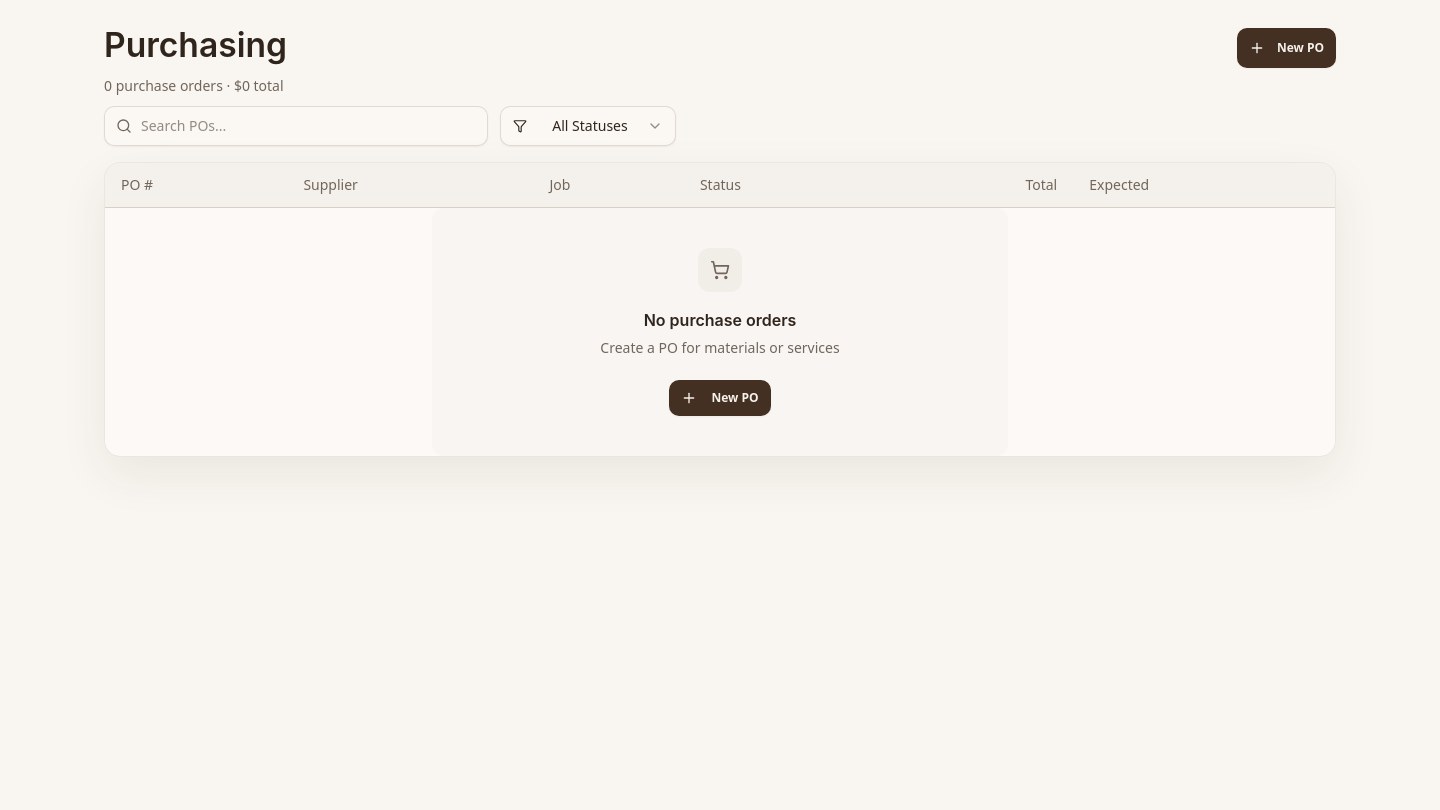
Test: Purchasing › opens the new purchase order dialog with an accessible description
Click the button "New PO" in the row of "Purchasing" at point(1286, 48), box [1237,28,1336,68]
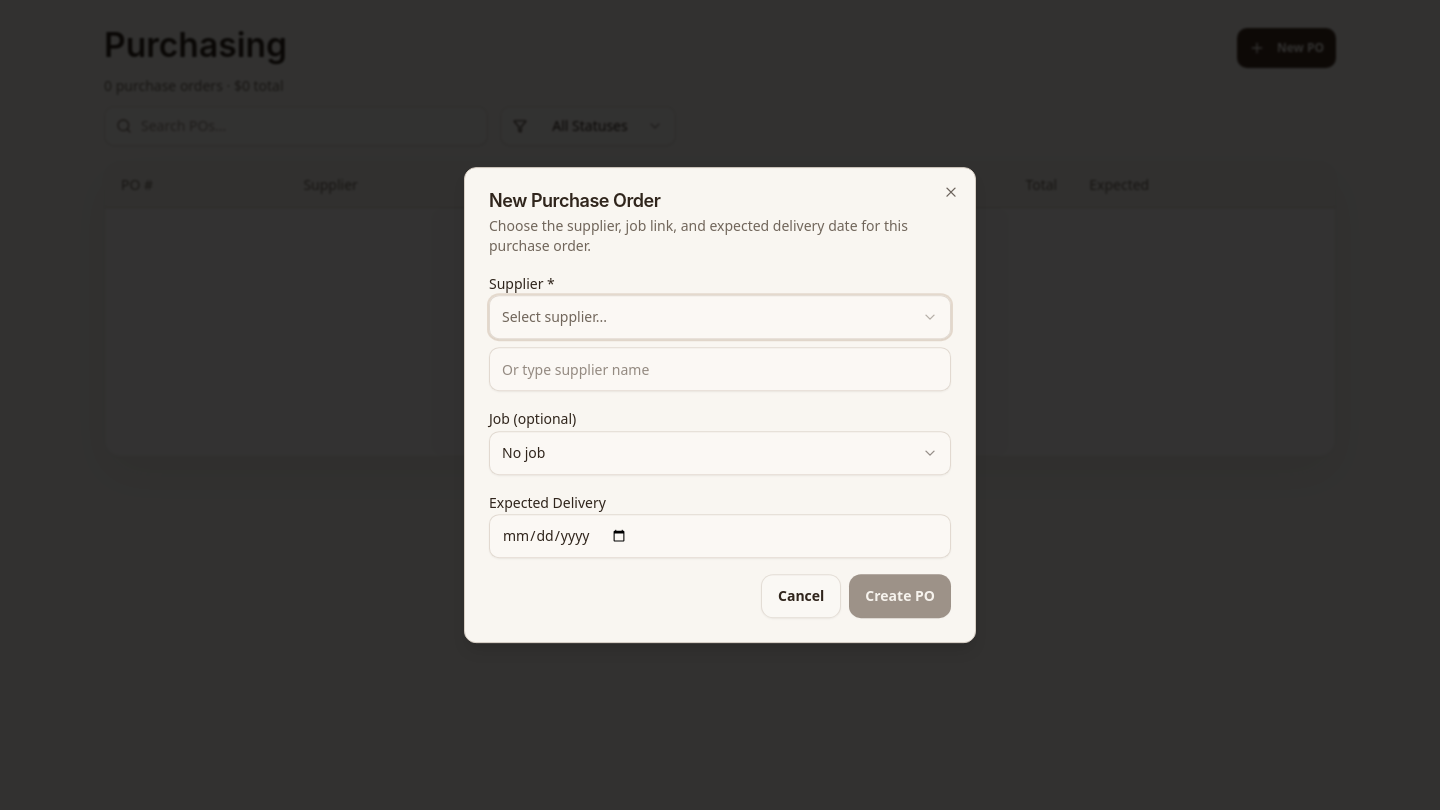
expect the dialog "New Purchase Order" is shown: met, box [464,167,976,643]
expect the text "Choose the supplier, job link, and expected delivery date for this purchase order." is shown: met, box [489,216,908,255]
